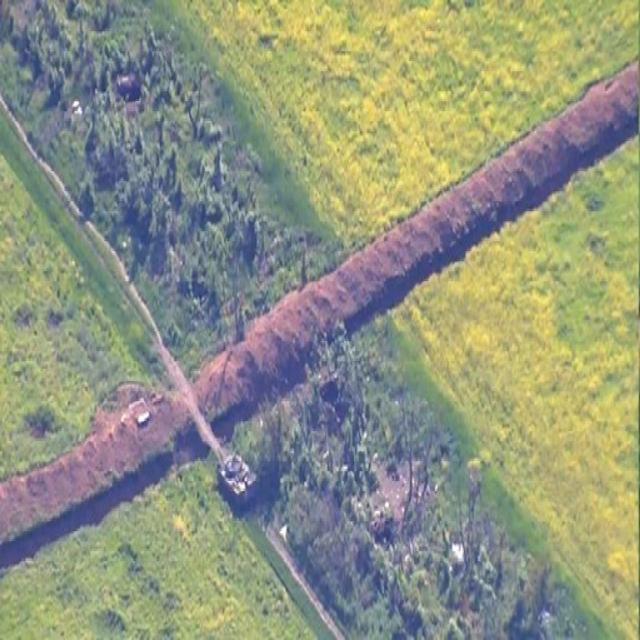APC-IFV: (211, 447, 259, 511)
